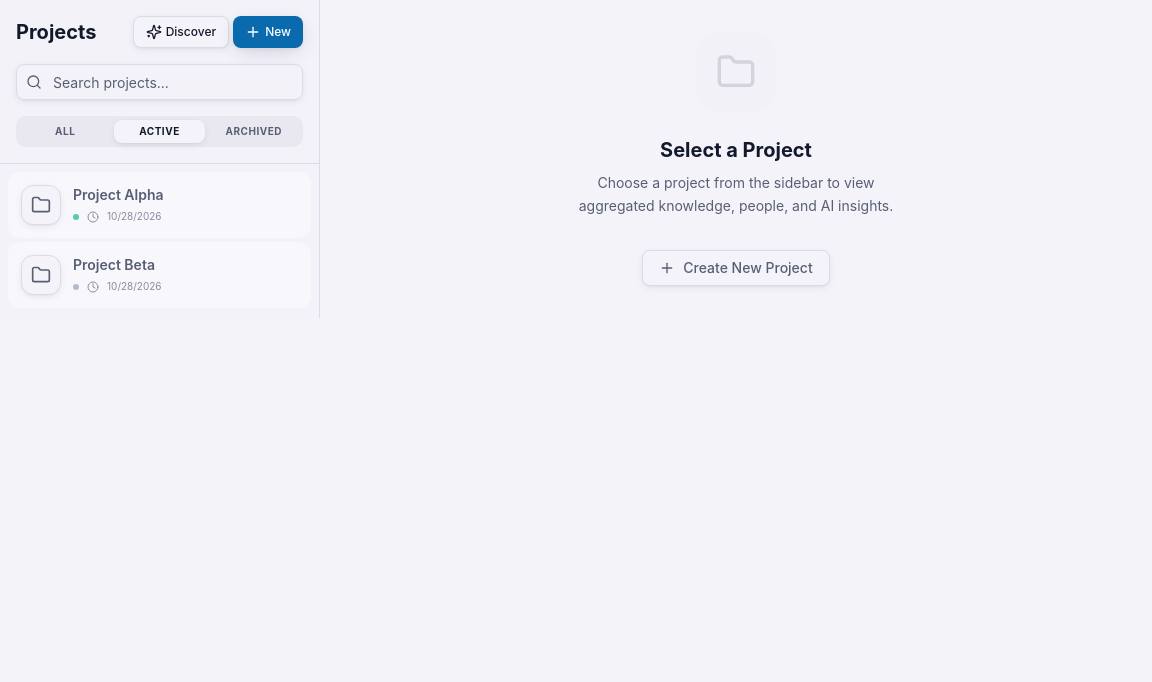
it: Projects Page › should show edit button for project description
The width and height of the screenshot is (1152, 682).
Note: Click on the project to select it
Click the text "Project Alpha": (118, 194) [73, 186, 164, 203]
(page scrolled)
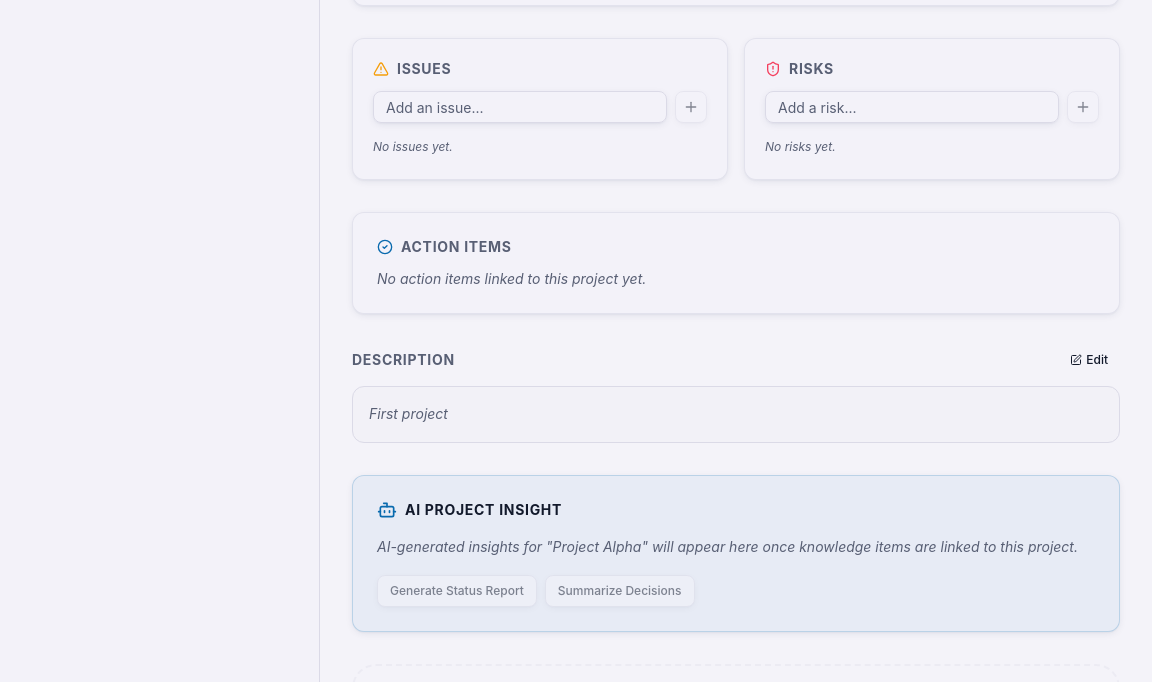
Expected: the text "First project" is shown, [352, 386, 1120, 443]
Expected: the button "Edit" is shown, [1058, 346, 1120, 374]
